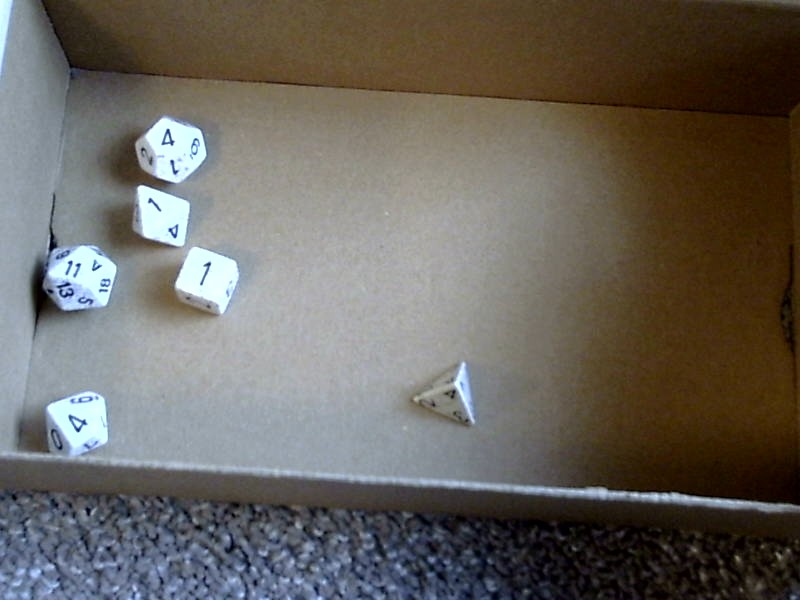d10 4: (37, 387, 112, 463)
d12 4: (132, 108, 212, 183)
d20 11: (34, 238, 118, 317)
d4 4: (403, 354, 487, 438)
d6 1: (176, 245, 249, 321)
d8 1: (120, 181, 187, 251)
